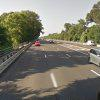Tree: (0, 9, 36, 49)
